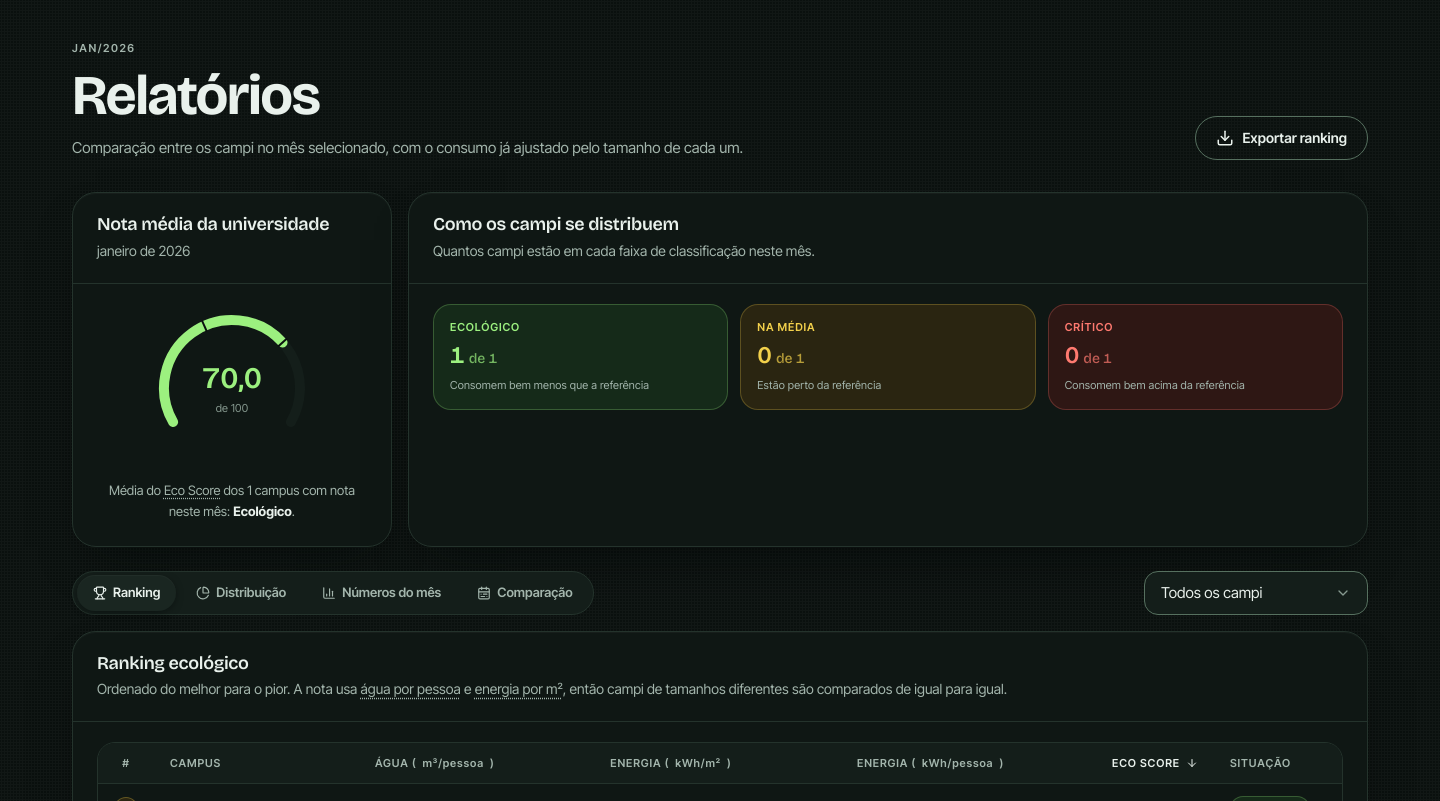
Relatórios › sem fator cadastrado, a pegada diz isso em vez de mostrar zero (R.2)
Press the mouse on the tab "Números do mês" at (382, 593), box [306,575,457,611]
(page scrolled)
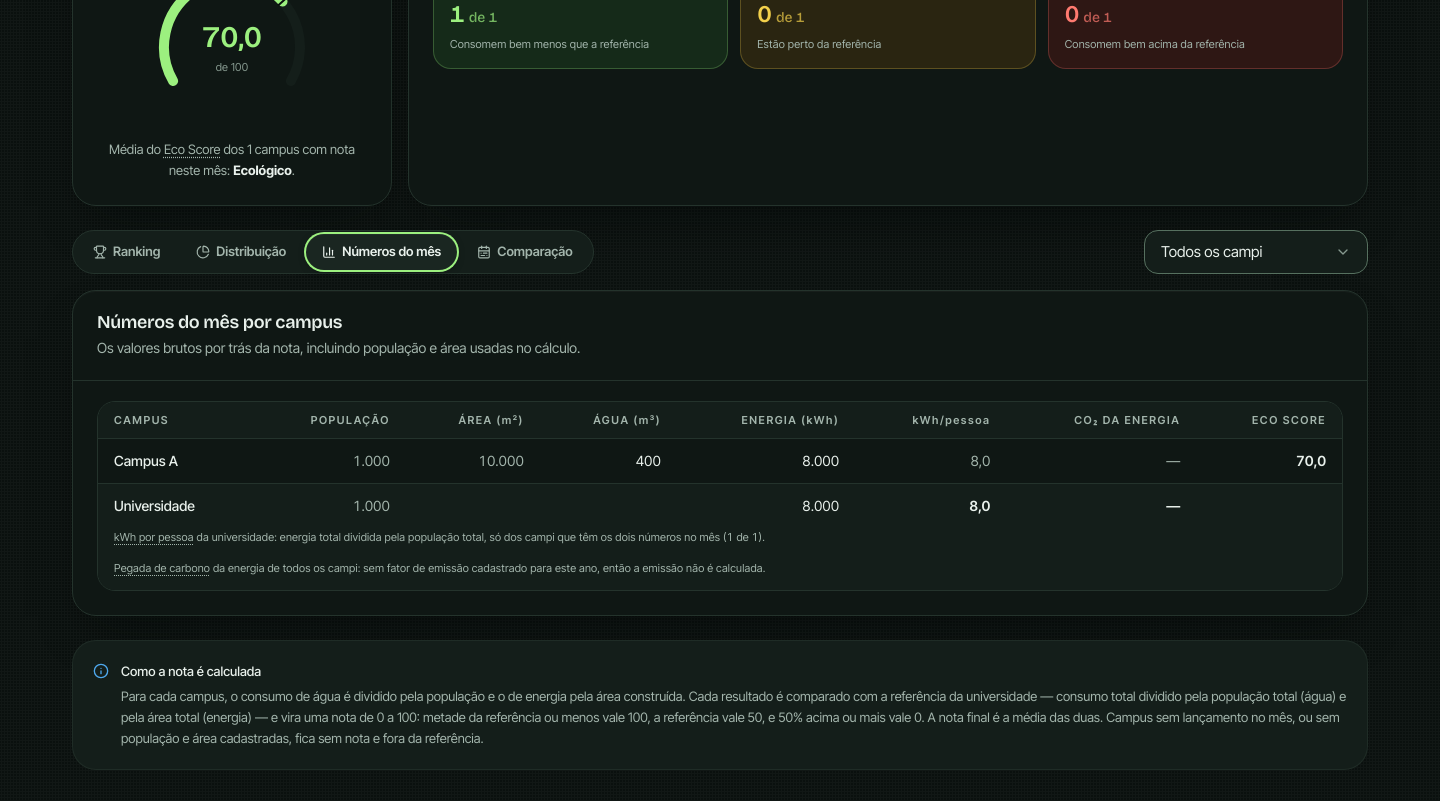
Check: the text "Universidade" shows "sem fator de emissão cadastrado", box [363,561,765,575]
